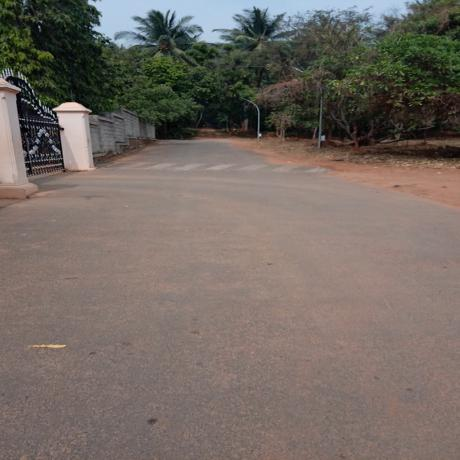Speed Bump: (99, 157, 333, 175)
